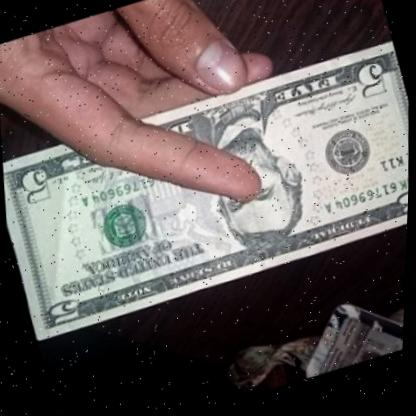five-front: (0, 41, 414, 338)
